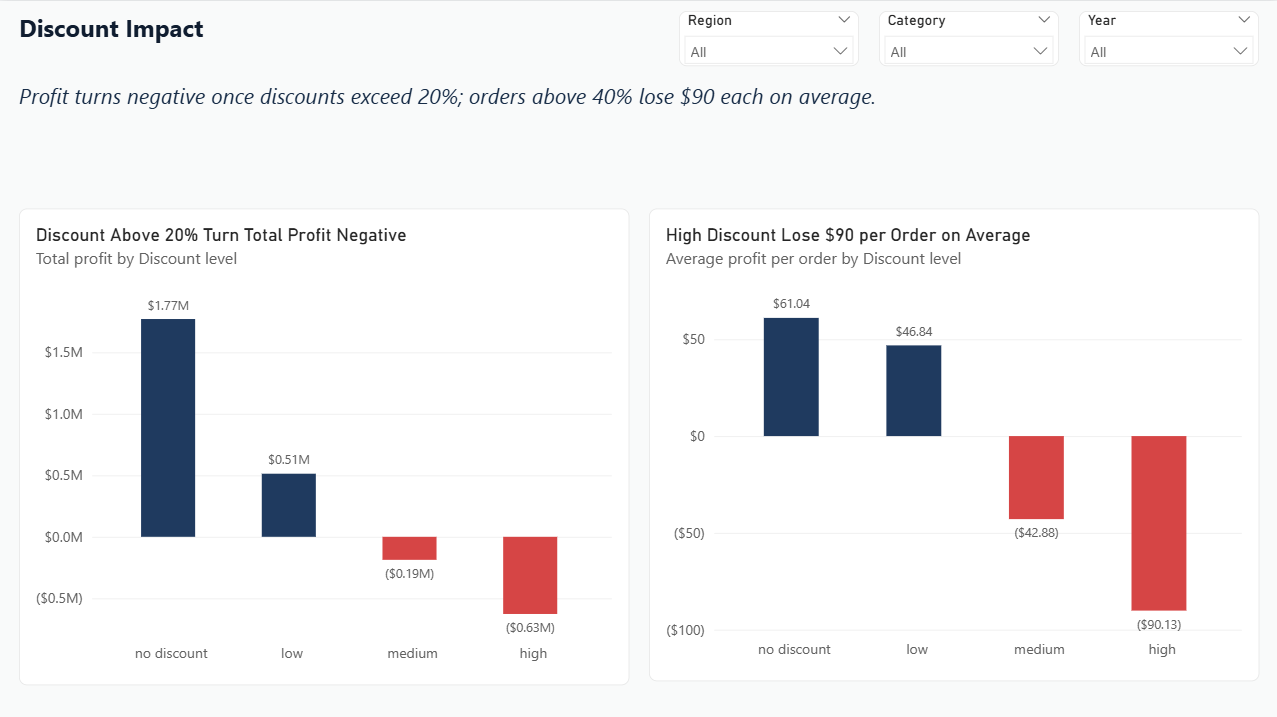

Layout of this report page (visuals, bound fields, positions):
{"tool":"powerbi","page":{"name":"Discount Impact","canvas":[1280,720],"ordinal":2},"visuals":[{"type":"clusteredColumnChart","title":"Discount Above 20% Turn Total Profit Negative","fields":{"Category":["superstore_project superstore_sales.discount_range"],"Y":["Sum(superstore_project superstore_sales.profit)"]},"box":[20,207.5,610,477],"z":0},{"type":"clusteredColumnChart","title":"High Discount Lose $90 per Order on Average","fields":{"Category":["superstore_project superstore_sales.discount_range"],"Y":["Avg(superstore_project superstore_sales.profit)"]},"box":[650,207.5,610,472.5],"z":1000},{"type":"textbox","box":[20,10,640,50],"z":2000},{"type":"textbox","box":[20,80,1240,50],"z":3000},{"type":"slicer","fields":{"Values":["superstore_project superstore_sales.region"]},"box":[680,10,180,55],"z":4000},{"type":"slicer","fields":{"Values":["superstore_project superstore_sales.category"]},"box":[880,10,180,55],"z":5000},{"type":"slicer","fields":{"Values":["superstore_project superstore_sales.year"]},"box":[1080,10,180,55],"z":6000}]}

Visuals, with their boxes in screenshot pixels (x1, y1, x2, y2), scaled from the page's 1280x720 canvas onto the 1277x717 screenshot:
"Discount Above 20% Turn Total Profit Negative" clusteredColumnChart: box(20, 207, 629, 682)
"High Discount Lose $90 per Order on Average" clusteredColumnChart: box(648, 207, 1257, 677)
textbox: box(20, 10, 658, 60)
textbox: box(20, 80, 1257, 129)
slicer - superstore_project superstore_sales.region: box(678, 10, 858, 65)
slicer - superstore_project superstore_sales.category: box(878, 10, 1058, 65)
slicer - superstore_project superstore_sales.year: box(1077, 10, 1257, 65)
